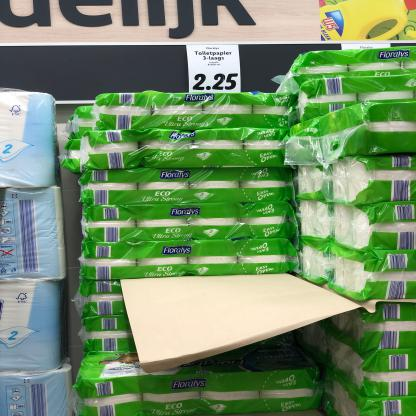prtg: (187, 46, 242, 94)
